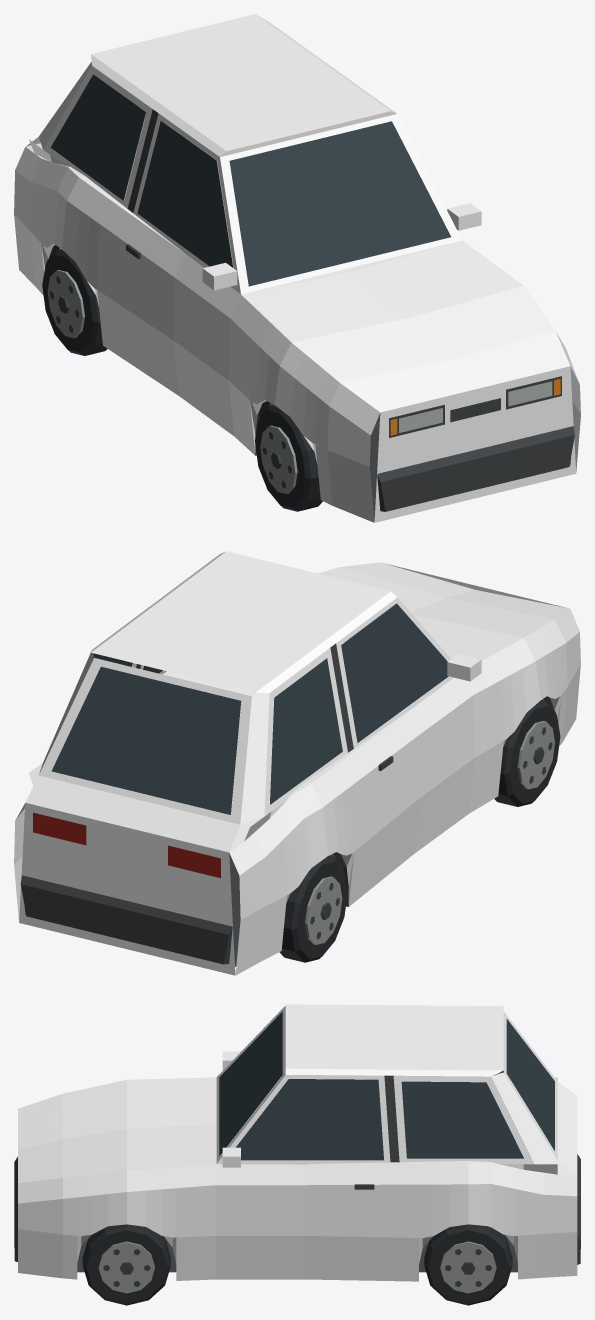
Rendered from hozuki_madoka.glb.
3 renders of one model, top to bottom at view 1: azimuth 30°, elevation 25°; view 2: azimuth 150°, elevation 25°; view 3: azimuth 270°, elevation 25°, orthographic. The views are drawn at different scales.
Parts seen in each view (by area): view 1: hozuki_madoka; view 2: hozuki_madoka; view 3: hozuki_madoka.
Boxes of the visible parts, left/top/right/bottom form: hozuki_madoka: left=14, top=14, right=580, bottom=522; hozuki_madoka: left=14, top=551, right=580, bottom=975; hozuki_madoka: left=14, top=1004, right=580, bottom=1305.
Bounding box in the file's own units: 1.62 × 1.59 × 3.7.
Materials: 8 (1 with a texture image).
